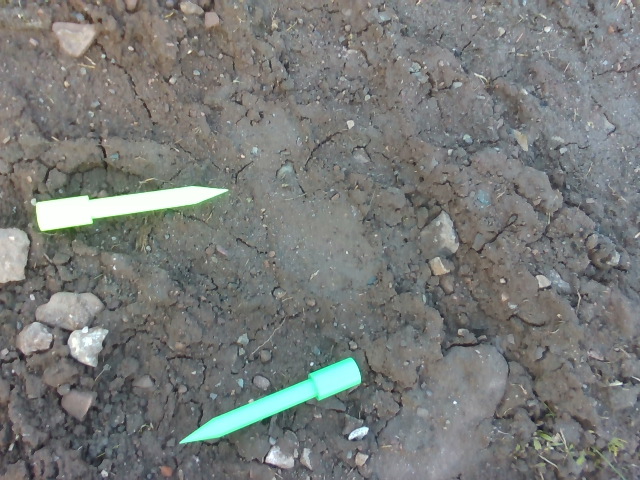Probe: (175, 347, 365, 452), (29, 174, 235, 239)
